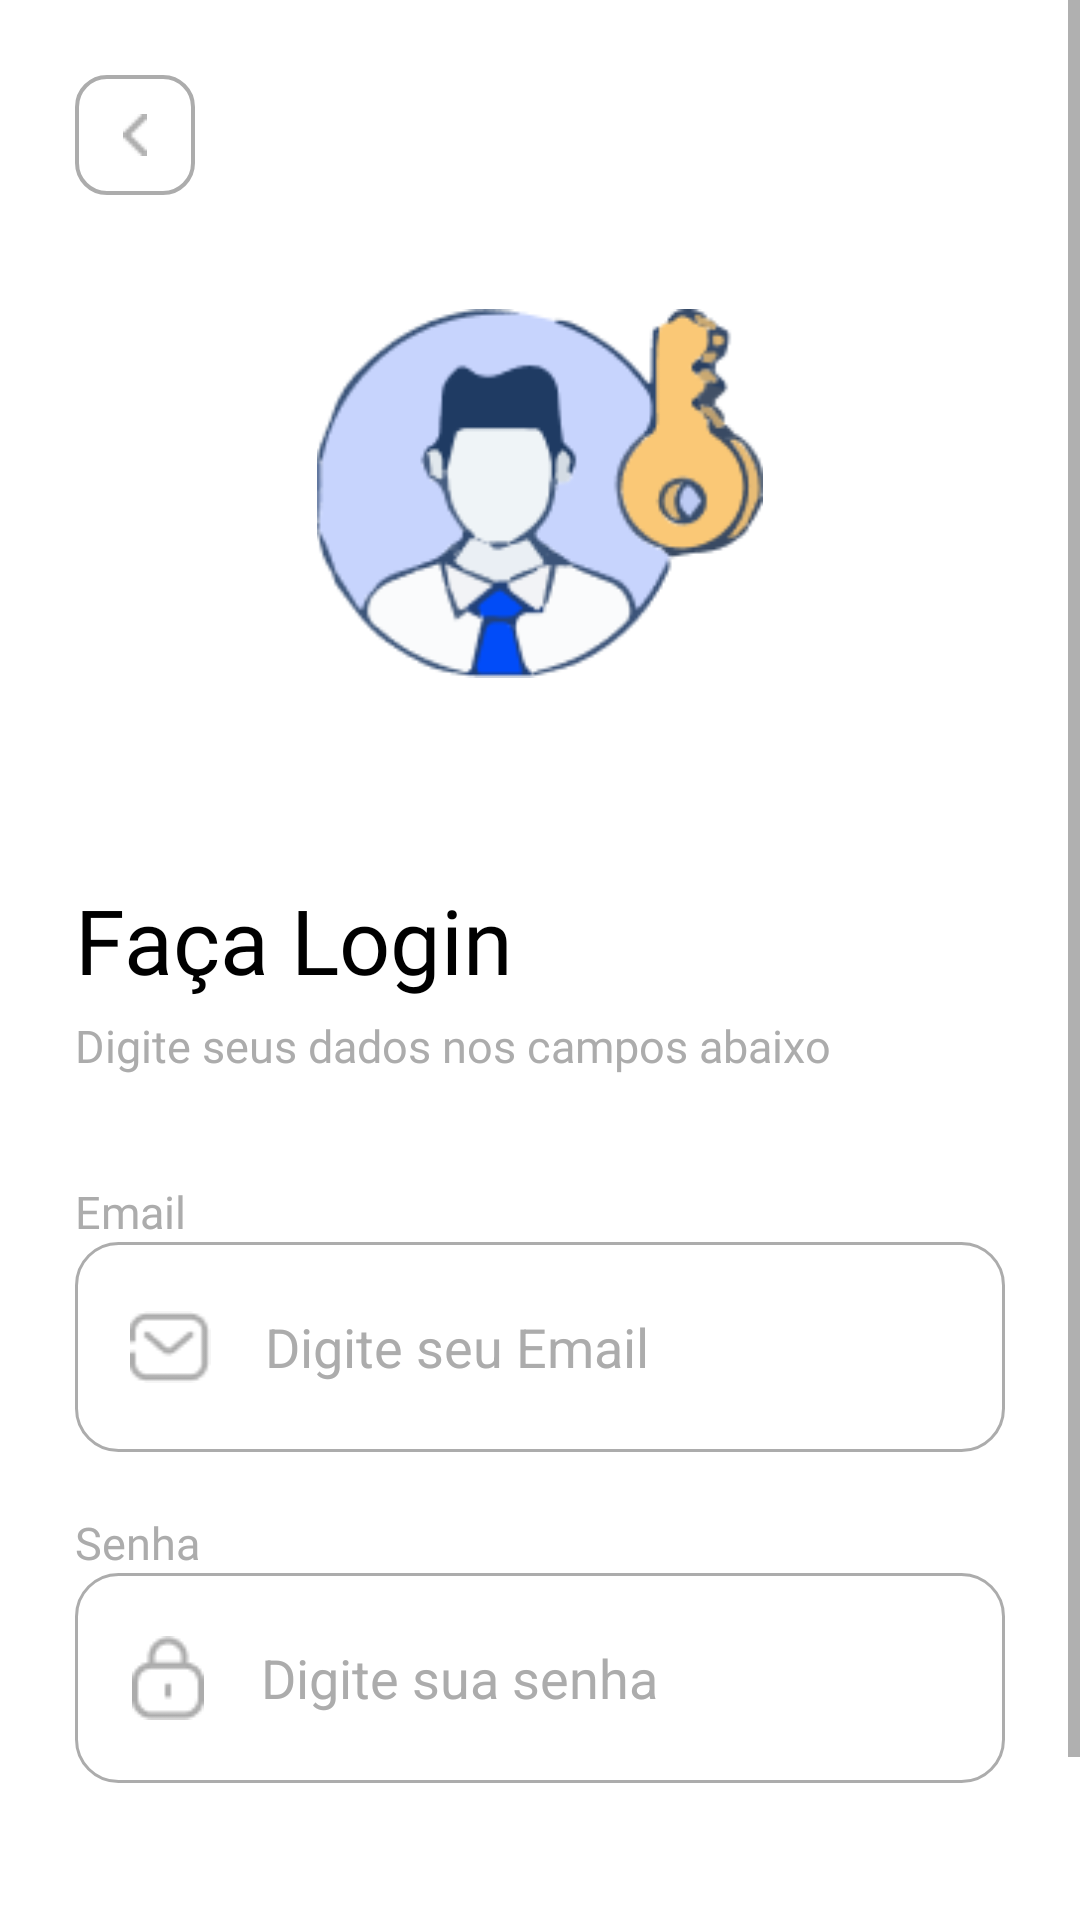

Icons on this 1080×1920 Android screen, each with its box as rect(x1, y1, x2, y2):
setinha: rect(123, 114, 147, 156)
